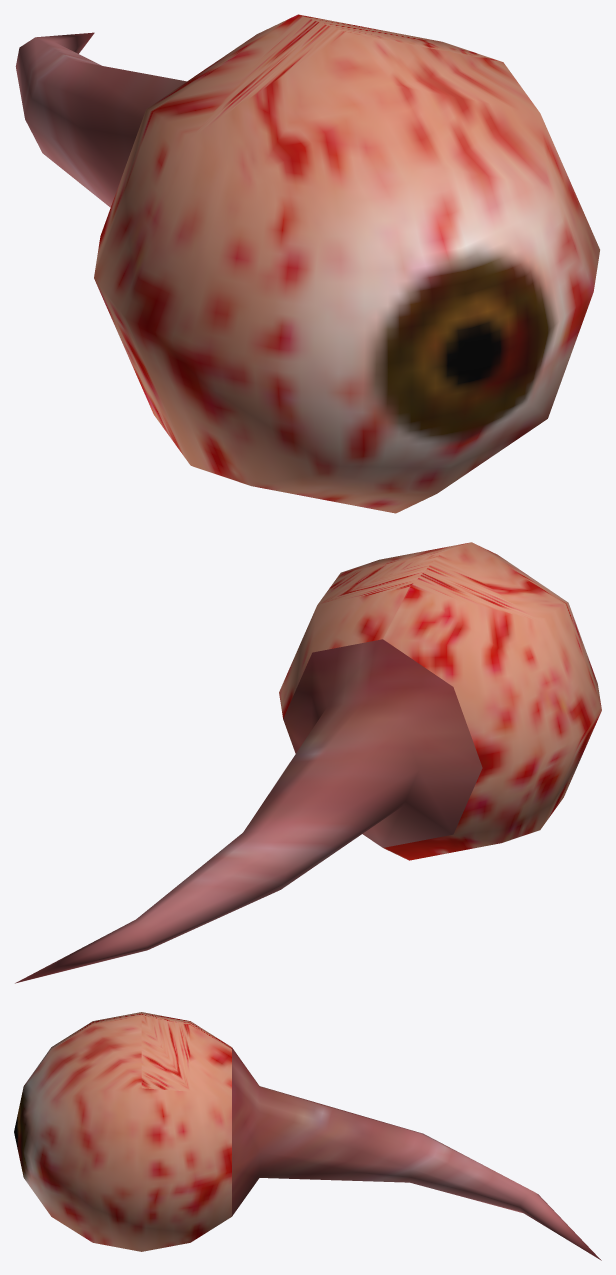
File: gib_eyeball.fbx
The picture shows the model from 3 angles, top to bottom: view 1: azimuth 30°, elevation 25°; view 2: azimuth 150°, elevation 25°; view 3: azimuth 270°, elevation 25°; orthographic projection. The views are drawn at different scales.
Visible parts, largest first — view 1: eyeball; view 2: eyeball; view 3: eyeball.
Part boxes in pixels (x1=…): eyeball: x1=15, y1=14, x2=599, y2=513; eyeball: x1=15, y1=542, x2=601, y2=983; eyeball: x1=14, y1=1012, x2=601, y2=1260.
Size of the model in its own units: 0.0436 by 0.0436 by 0.1004.
